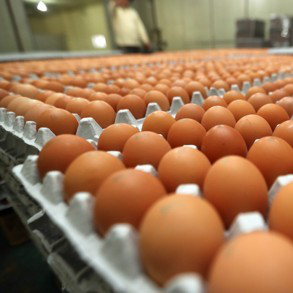egg: (2, 50, 293, 291)
